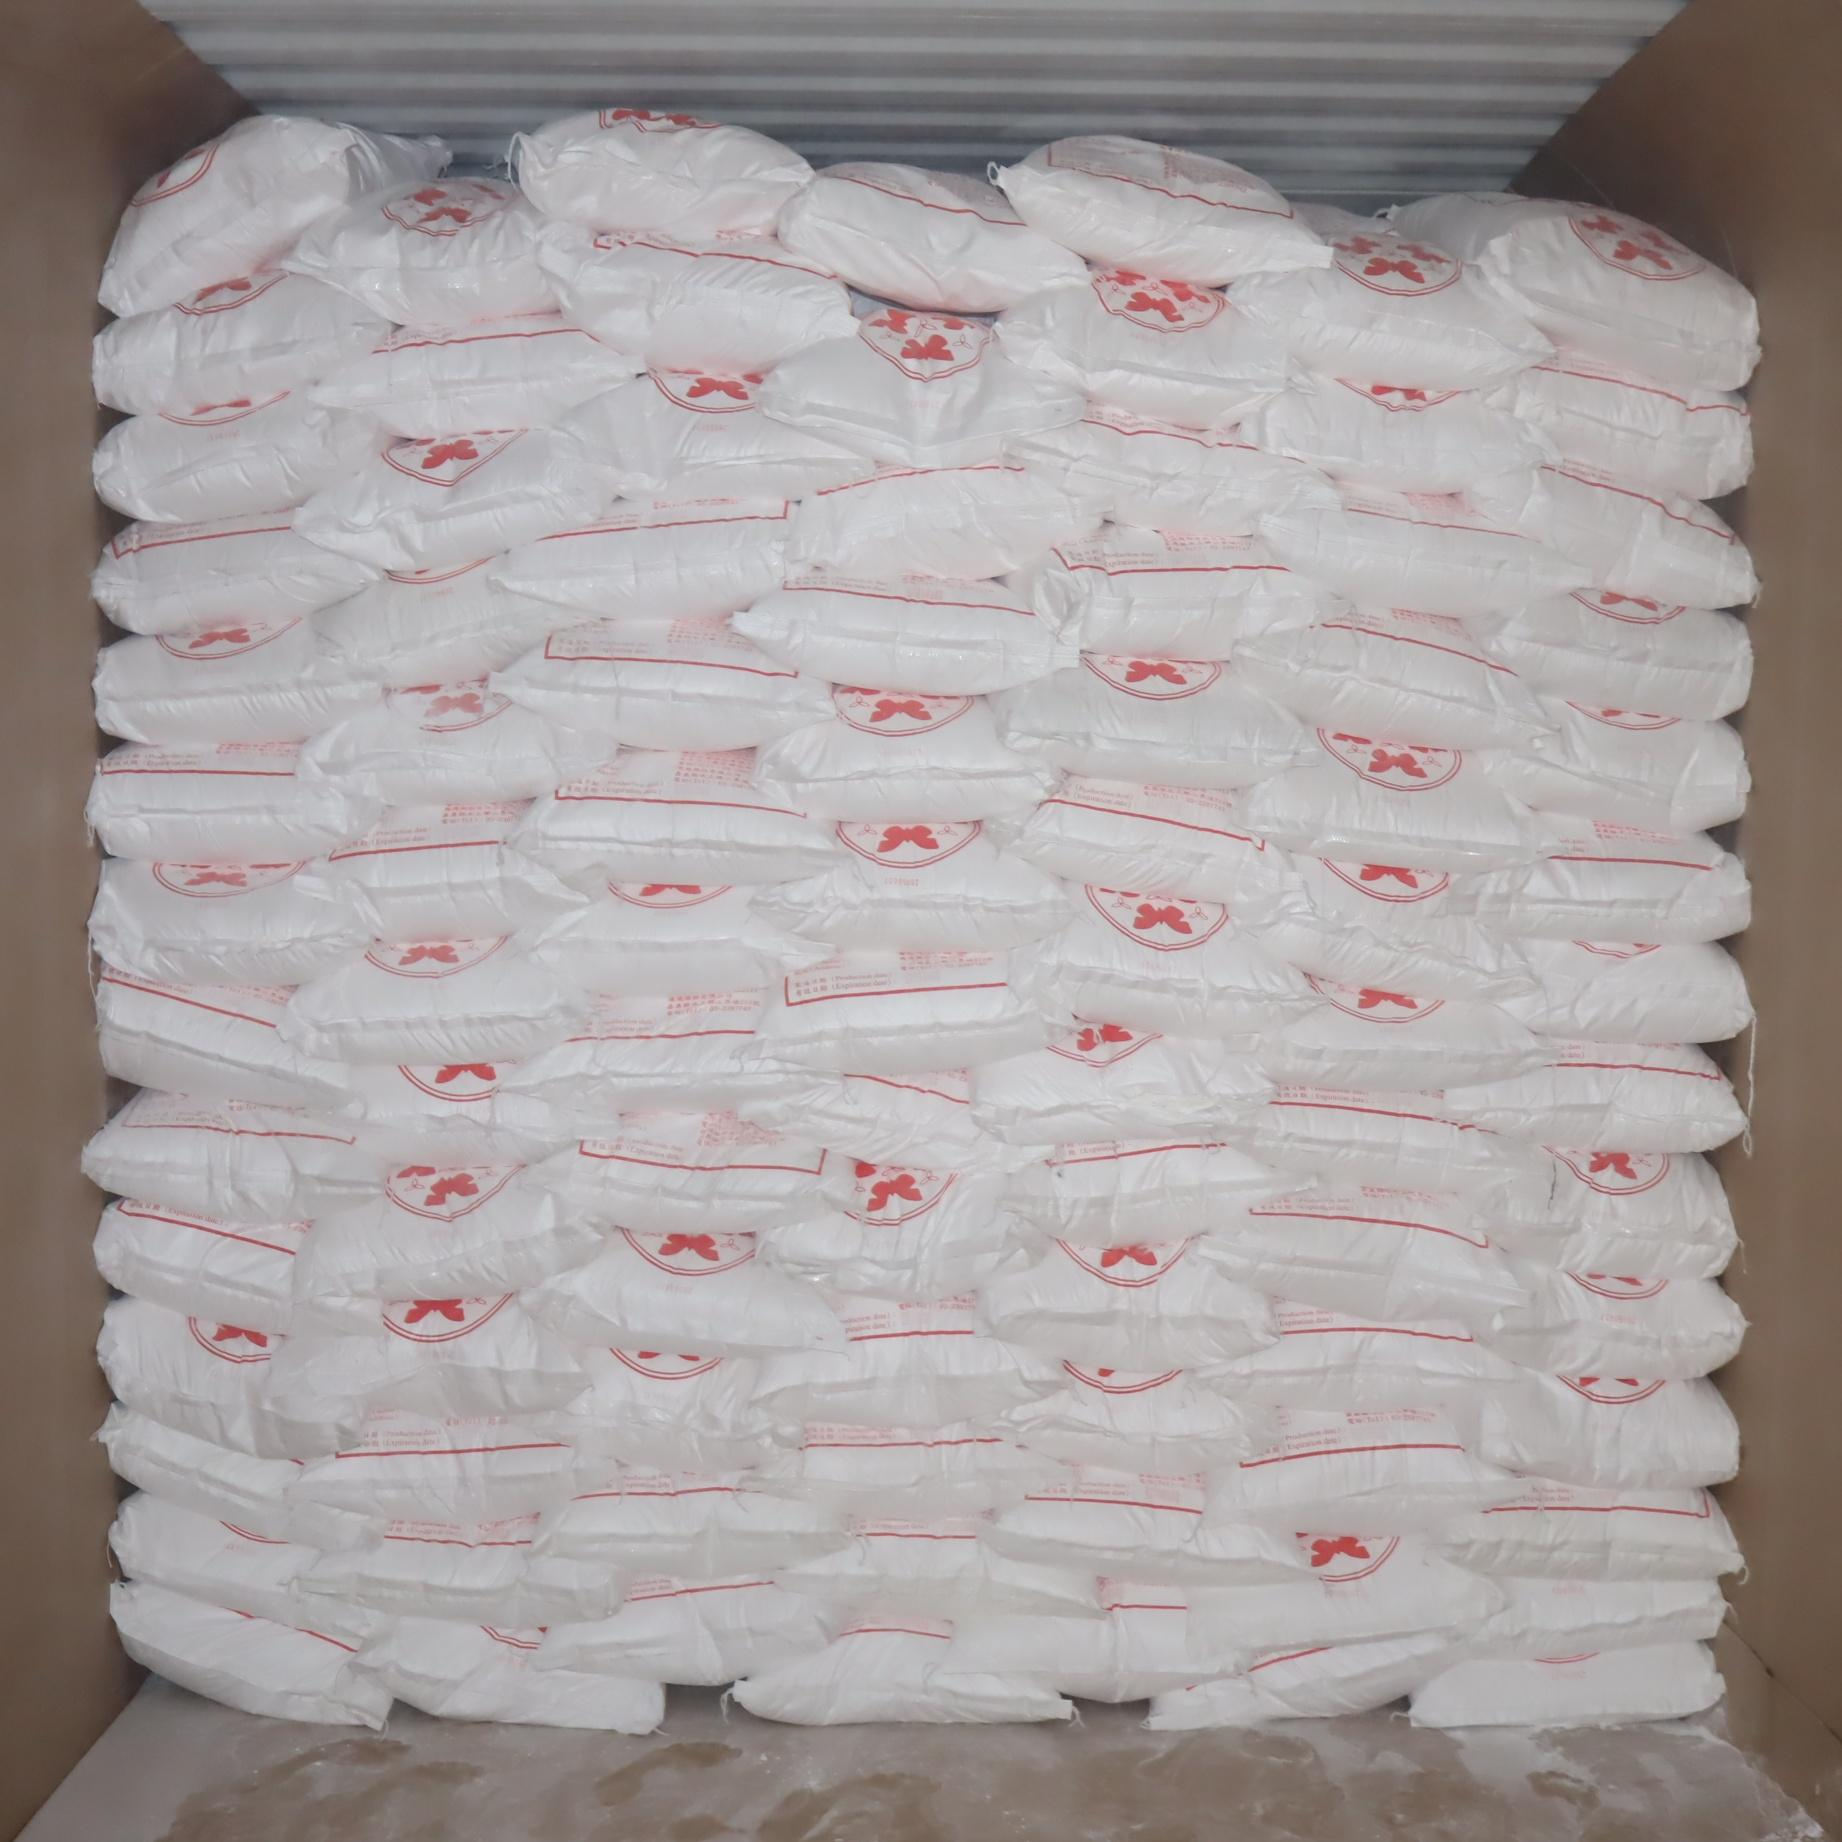sack: (100, 116, 445, 314), (992, 137, 1324, 285), (1233, 602, 1547, 747), (299, 428, 612, 572), (779, 165, 1085, 312), (1014, 887, 1309, 1034), (494, 621, 832, 749), (94, 270, 388, 415), (994, 654, 1307, 788), (113, 1582, 390, 1727), (100, 1403, 374, 1548), (734, 572, 1064, 692), (1481, 353, 1749, 498), (312, 319, 641, 437), (83, 1091, 381, 1220), (96, 1201, 376, 1334), (94, 395, 386, 521), (982, 1240, 1272, 1366), (304, 685, 612, 803), (972, 1026, 1270, 1142), (1489, 697, 1749, 830), (1479, 590, 1749, 719), (359, 1618, 661, 1731), (788, 469, 1100, 577), (1444, 1041, 1748, 1150), (96, 622, 378, 741), (93, 516, 376, 633), (1408, 1641, 1722, 1727), (1500, 940, 1751, 1041)
